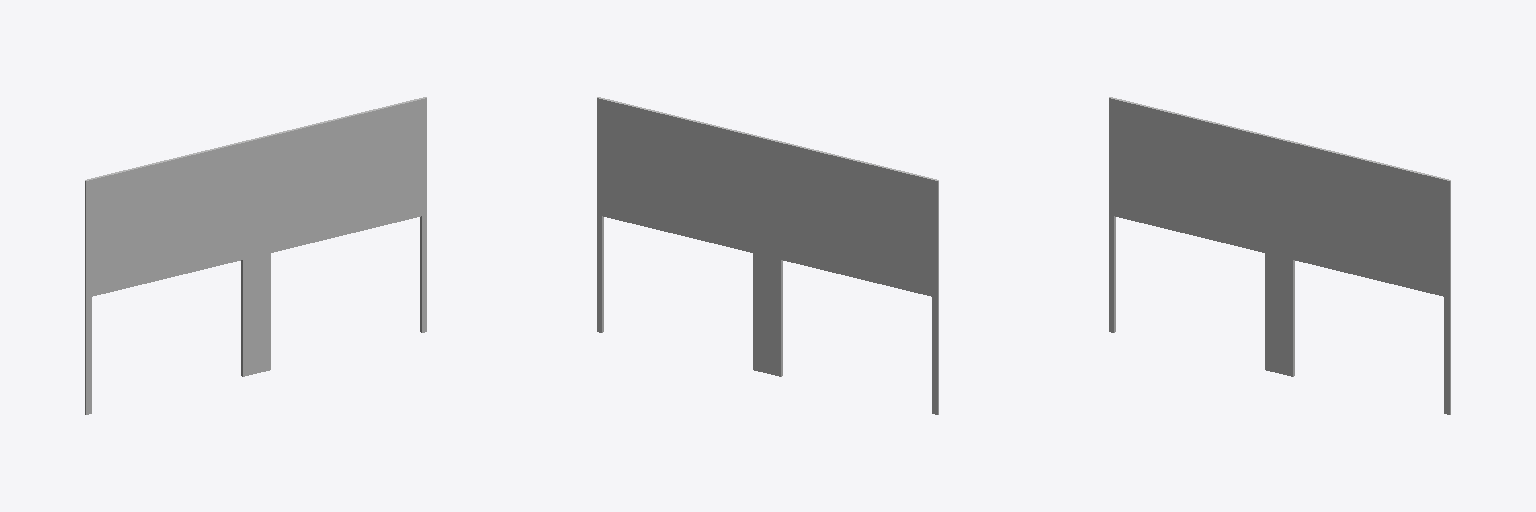
The model's file is bowling_alley_backcover.obj.
3 renders of one model, left to right at view 1: azimuth 30°, elevation 25°; view 2: azimuth 150°, elevation 25°; view 3: azimuth 330°, elevation 25°, orthographic.
Parts seen in each view (by area): view 1: Cover, Pole, Pole1, Pole2; view 2: Cover, Pole, Pole1, Pole2; view 3: Cover, Pole, Pole2, Pole1.
Boxes of the visible parts, x1,y1,x2,y2 form: Cover: [85, 97, 426, 297]; Pole: [241, 253, 270, 376]; Pole1: [85, 297, 91, 414]; Pole2: [420, 215, 426, 332]; Cover: [597, 97, 938, 297]; Pole: [753, 253, 782, 376]; Pole1: [932, 297, 938, 414]; Pole2: [597, 215, 603, 332]; Cover: [1109, 97, 1450, 297]; Pole: [1265, 253, 1294, 376]; Pole2: [1444, 297, 1450, 414]; Pole1: [1109, 215, 1115, 332].
Size of the model in its own units: 61 by 40 by 0.5.